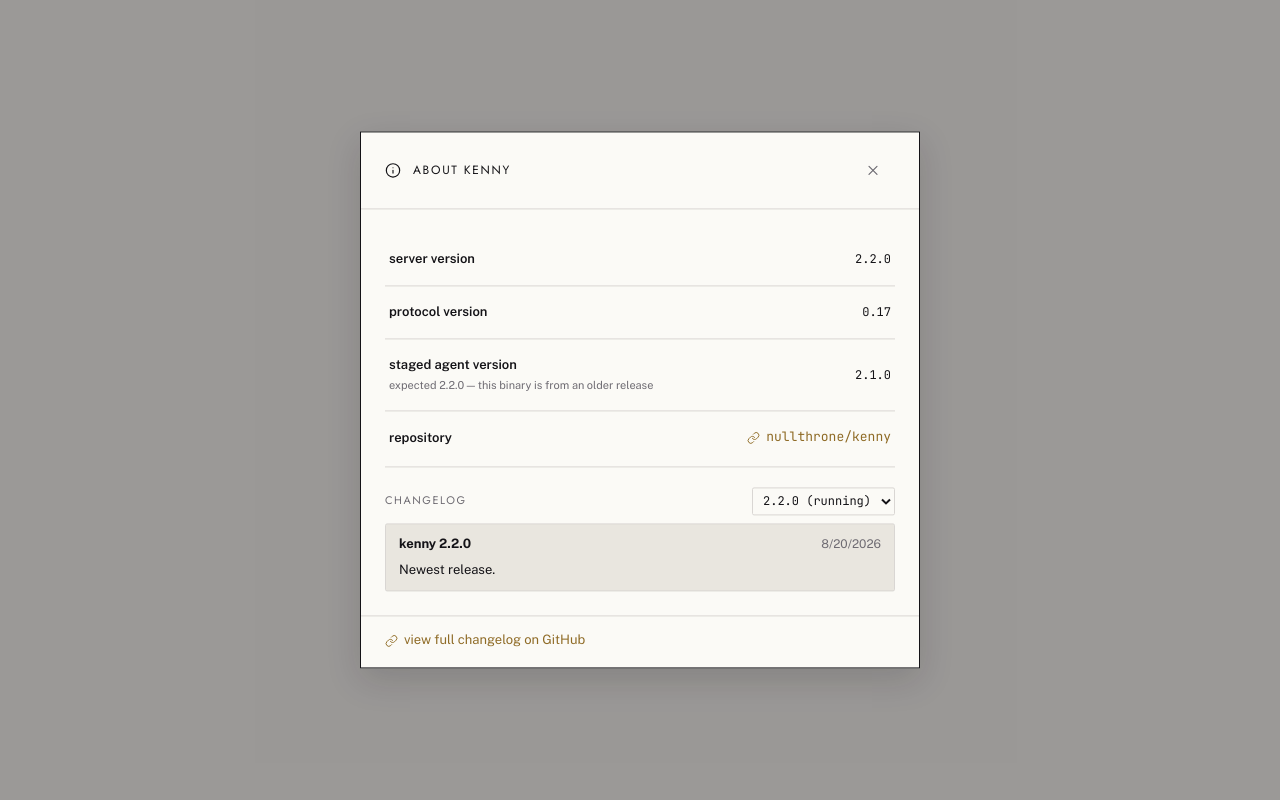
Test: AboutModal › filters to a single release when one is chosen
Step 1. Select "2.1.0" in the dropdown named "Filter release notes by version" → (824, 501), box [752, 487, 895, 515]
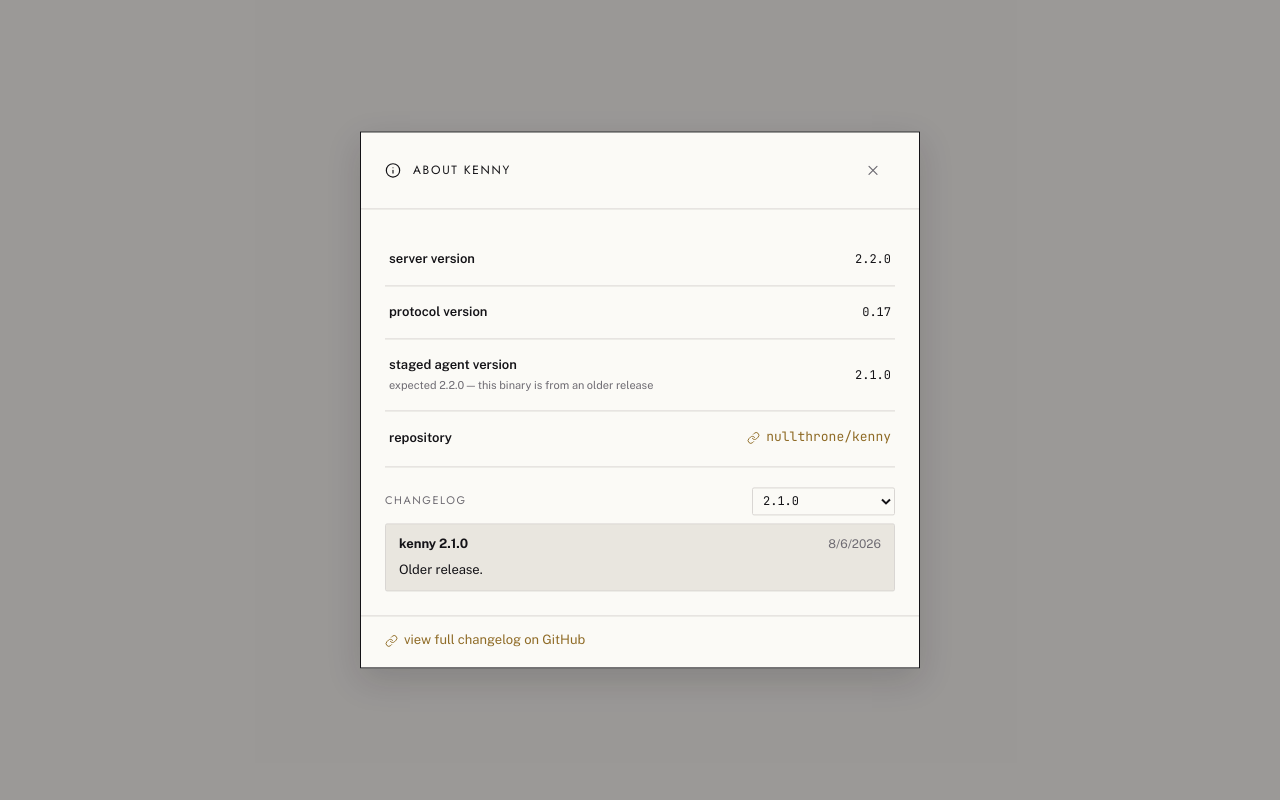
Result: the text "kenny 2.1.0" is shown at [399, 534, 468, 554]
Result: the text "kenny 2.2.0" is gone
